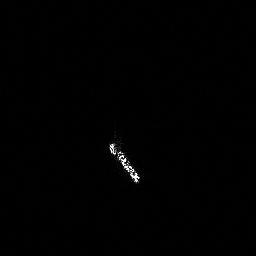ship: (105, 136, 143, 188)
